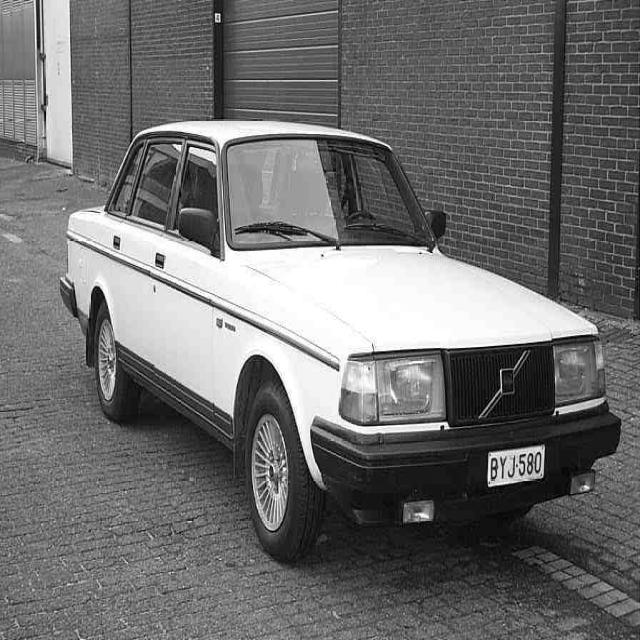car: (59, 117, 622, 564)
plat_license: (486, 442, 546, 488)
